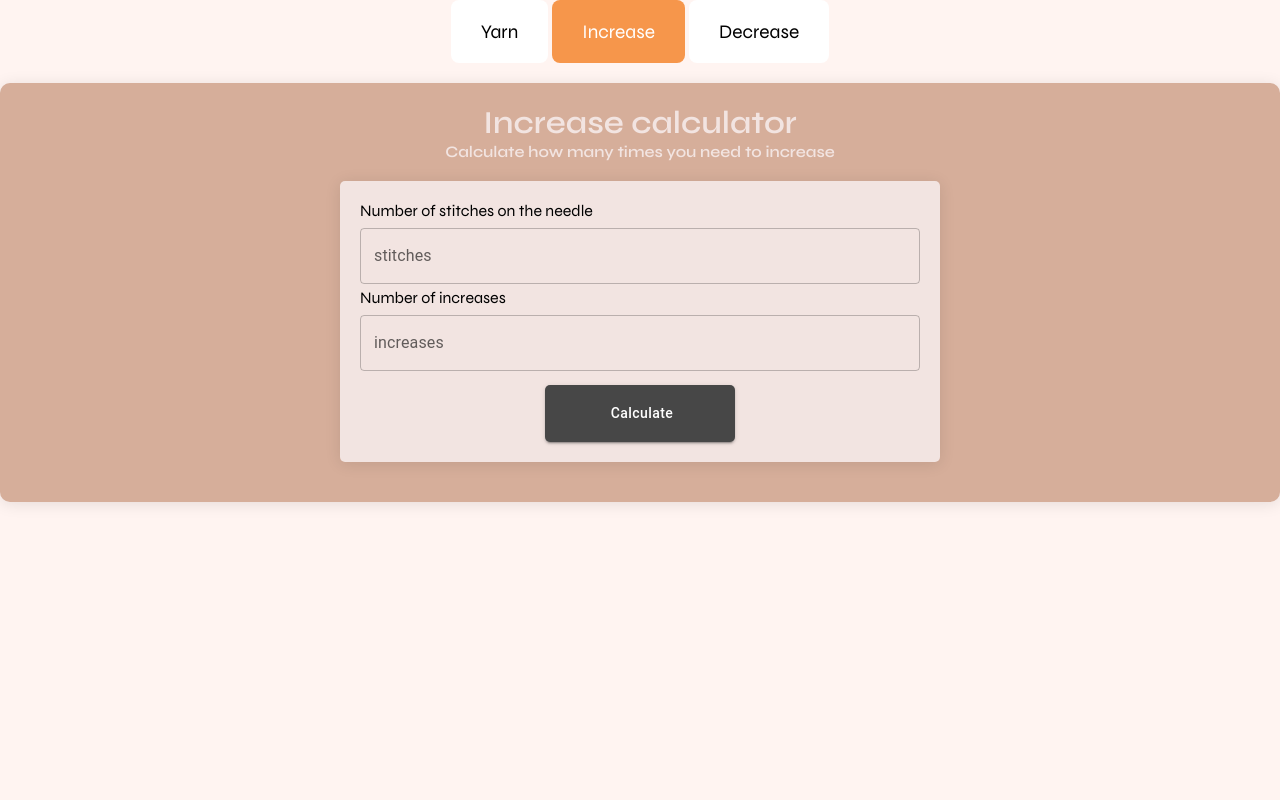
Scenario: Calculators › See if when Yarn is active you get the correct message
Click the text "Yarn" at [500, 32], box top-left (451, 0), bottom-right (548, 63)
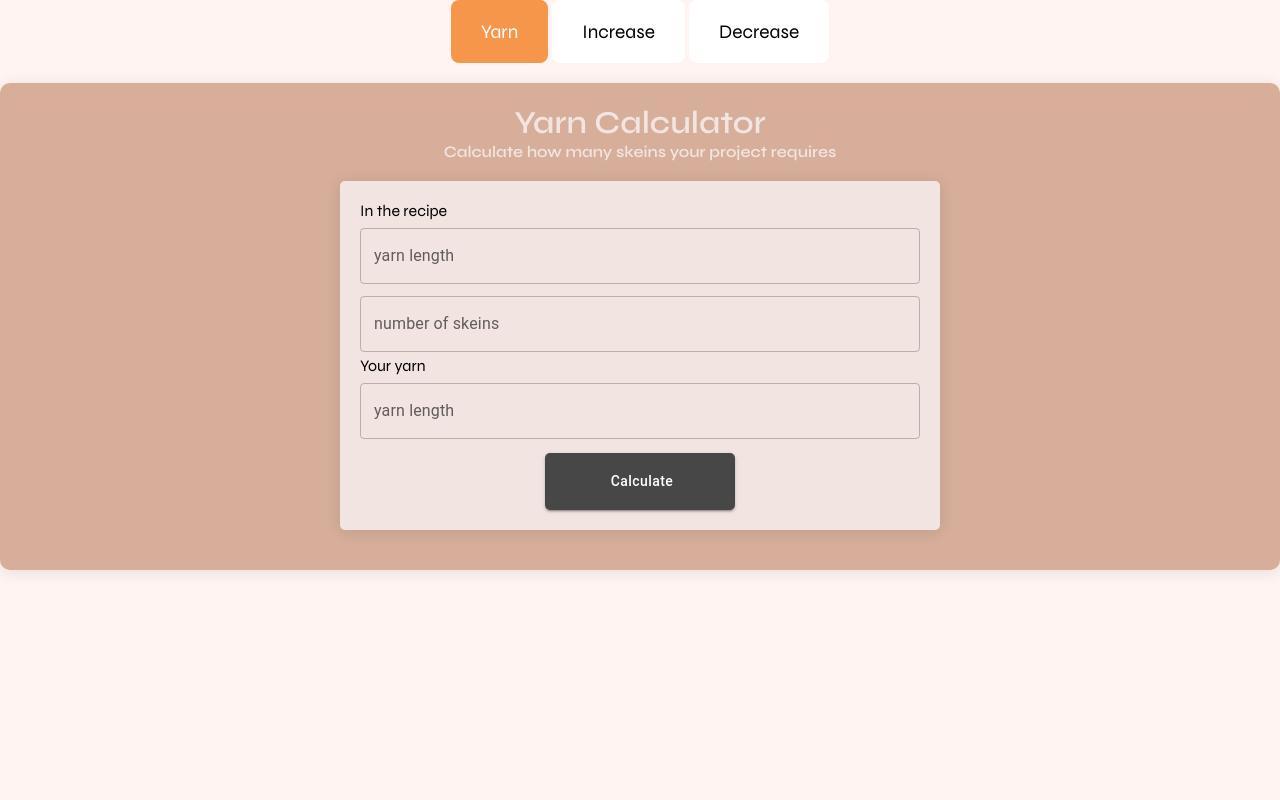
Expected: the heading "Calculate how many skeins your project requires" is shown, top-left (444, 142), bottom-right (836, 161)
